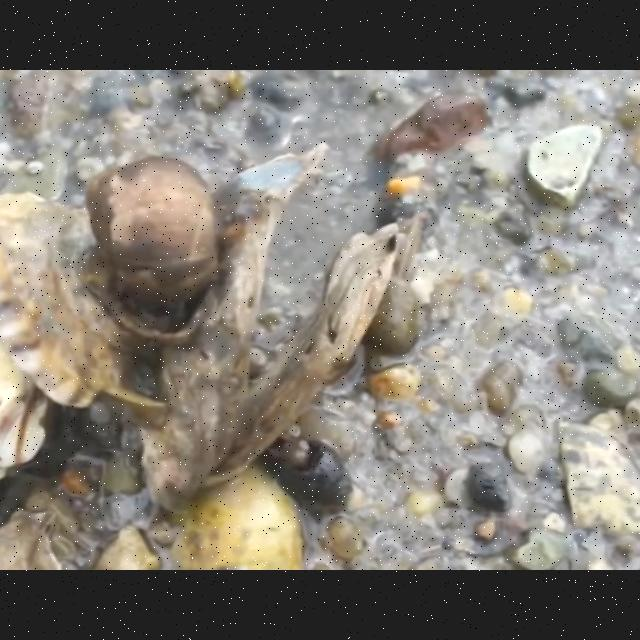Oyster-Closed: (0, 191, 142, 411)
Oyster-Open: (137, 142, 413, 514)
